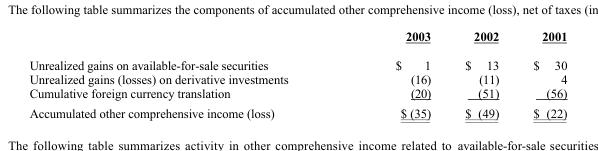table: (28, 29, 566, 120)
table column: (28, 29, 341, 120), (341, 29, 447, 120), (447, 29, 515, 120), (515, 29, 566, 120)
table column header: (28, 29, 566, 50)
table row: (28, 50, 566, 72), (28, 29, 566, 50), (28, 86, 566, 103), (28, 103, 566, 120), (28, 72, 566, 86)
